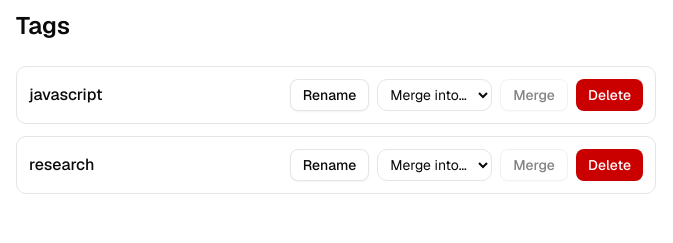
it: TagManagementView › shows an inline error when a rename hits a duplicate name
This screenshot has width=673, height=243.
Expected: the text "javascript" is shown, left=29, top=83, right=103, bottom=107
Click the button "Rename" in the row of "javascript". click: (330, 95)
box: left=290, top=79, right=369, bottom=111
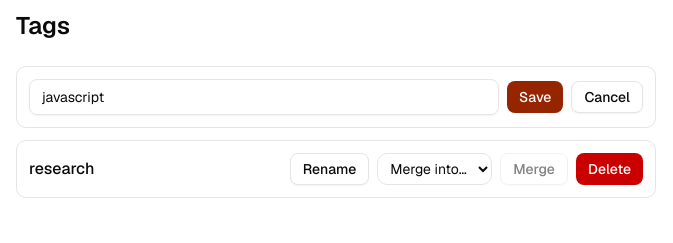
Replace the text in the field named "Tag name" with "research". click: (264, 97)
box: left=29, top=79, right=499, bottom=115
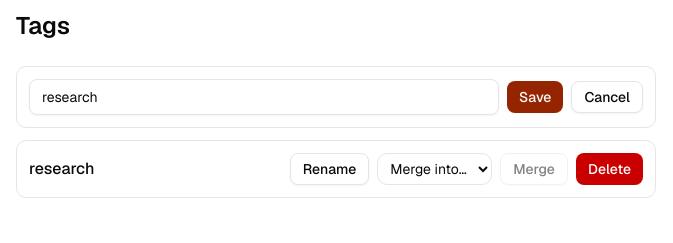
Click the button "Save". click: (535, 97)
box: left=507, top=81, right=563, bottom=113
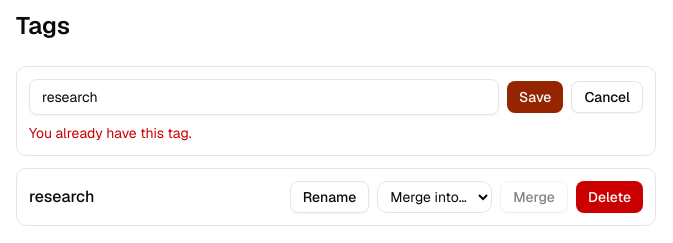
Expected: the message reads "You already have this tag.", left=29, top=124, right=192, bottom=142
